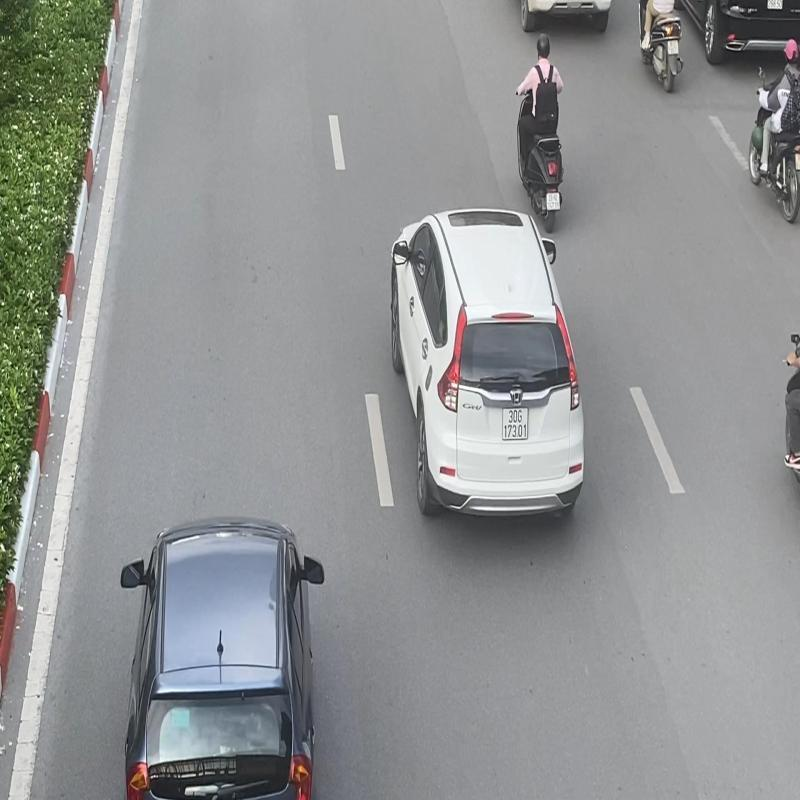helmet: (536, 32, 551, 57)
licenseplate: (546, 191, 560, 211)
motorcyclist: (514, 31, 566, 236)
